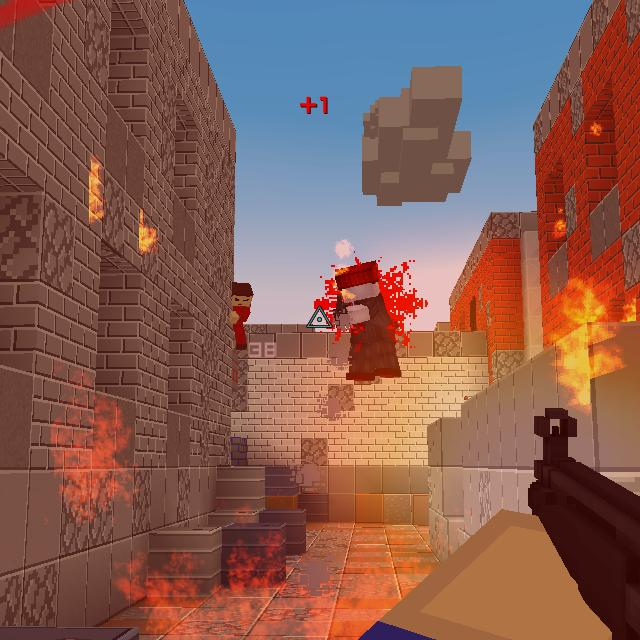enemy: (334, 260, 403, 381), (230, 283, 255, 351), (592, 120, 600, 135)
